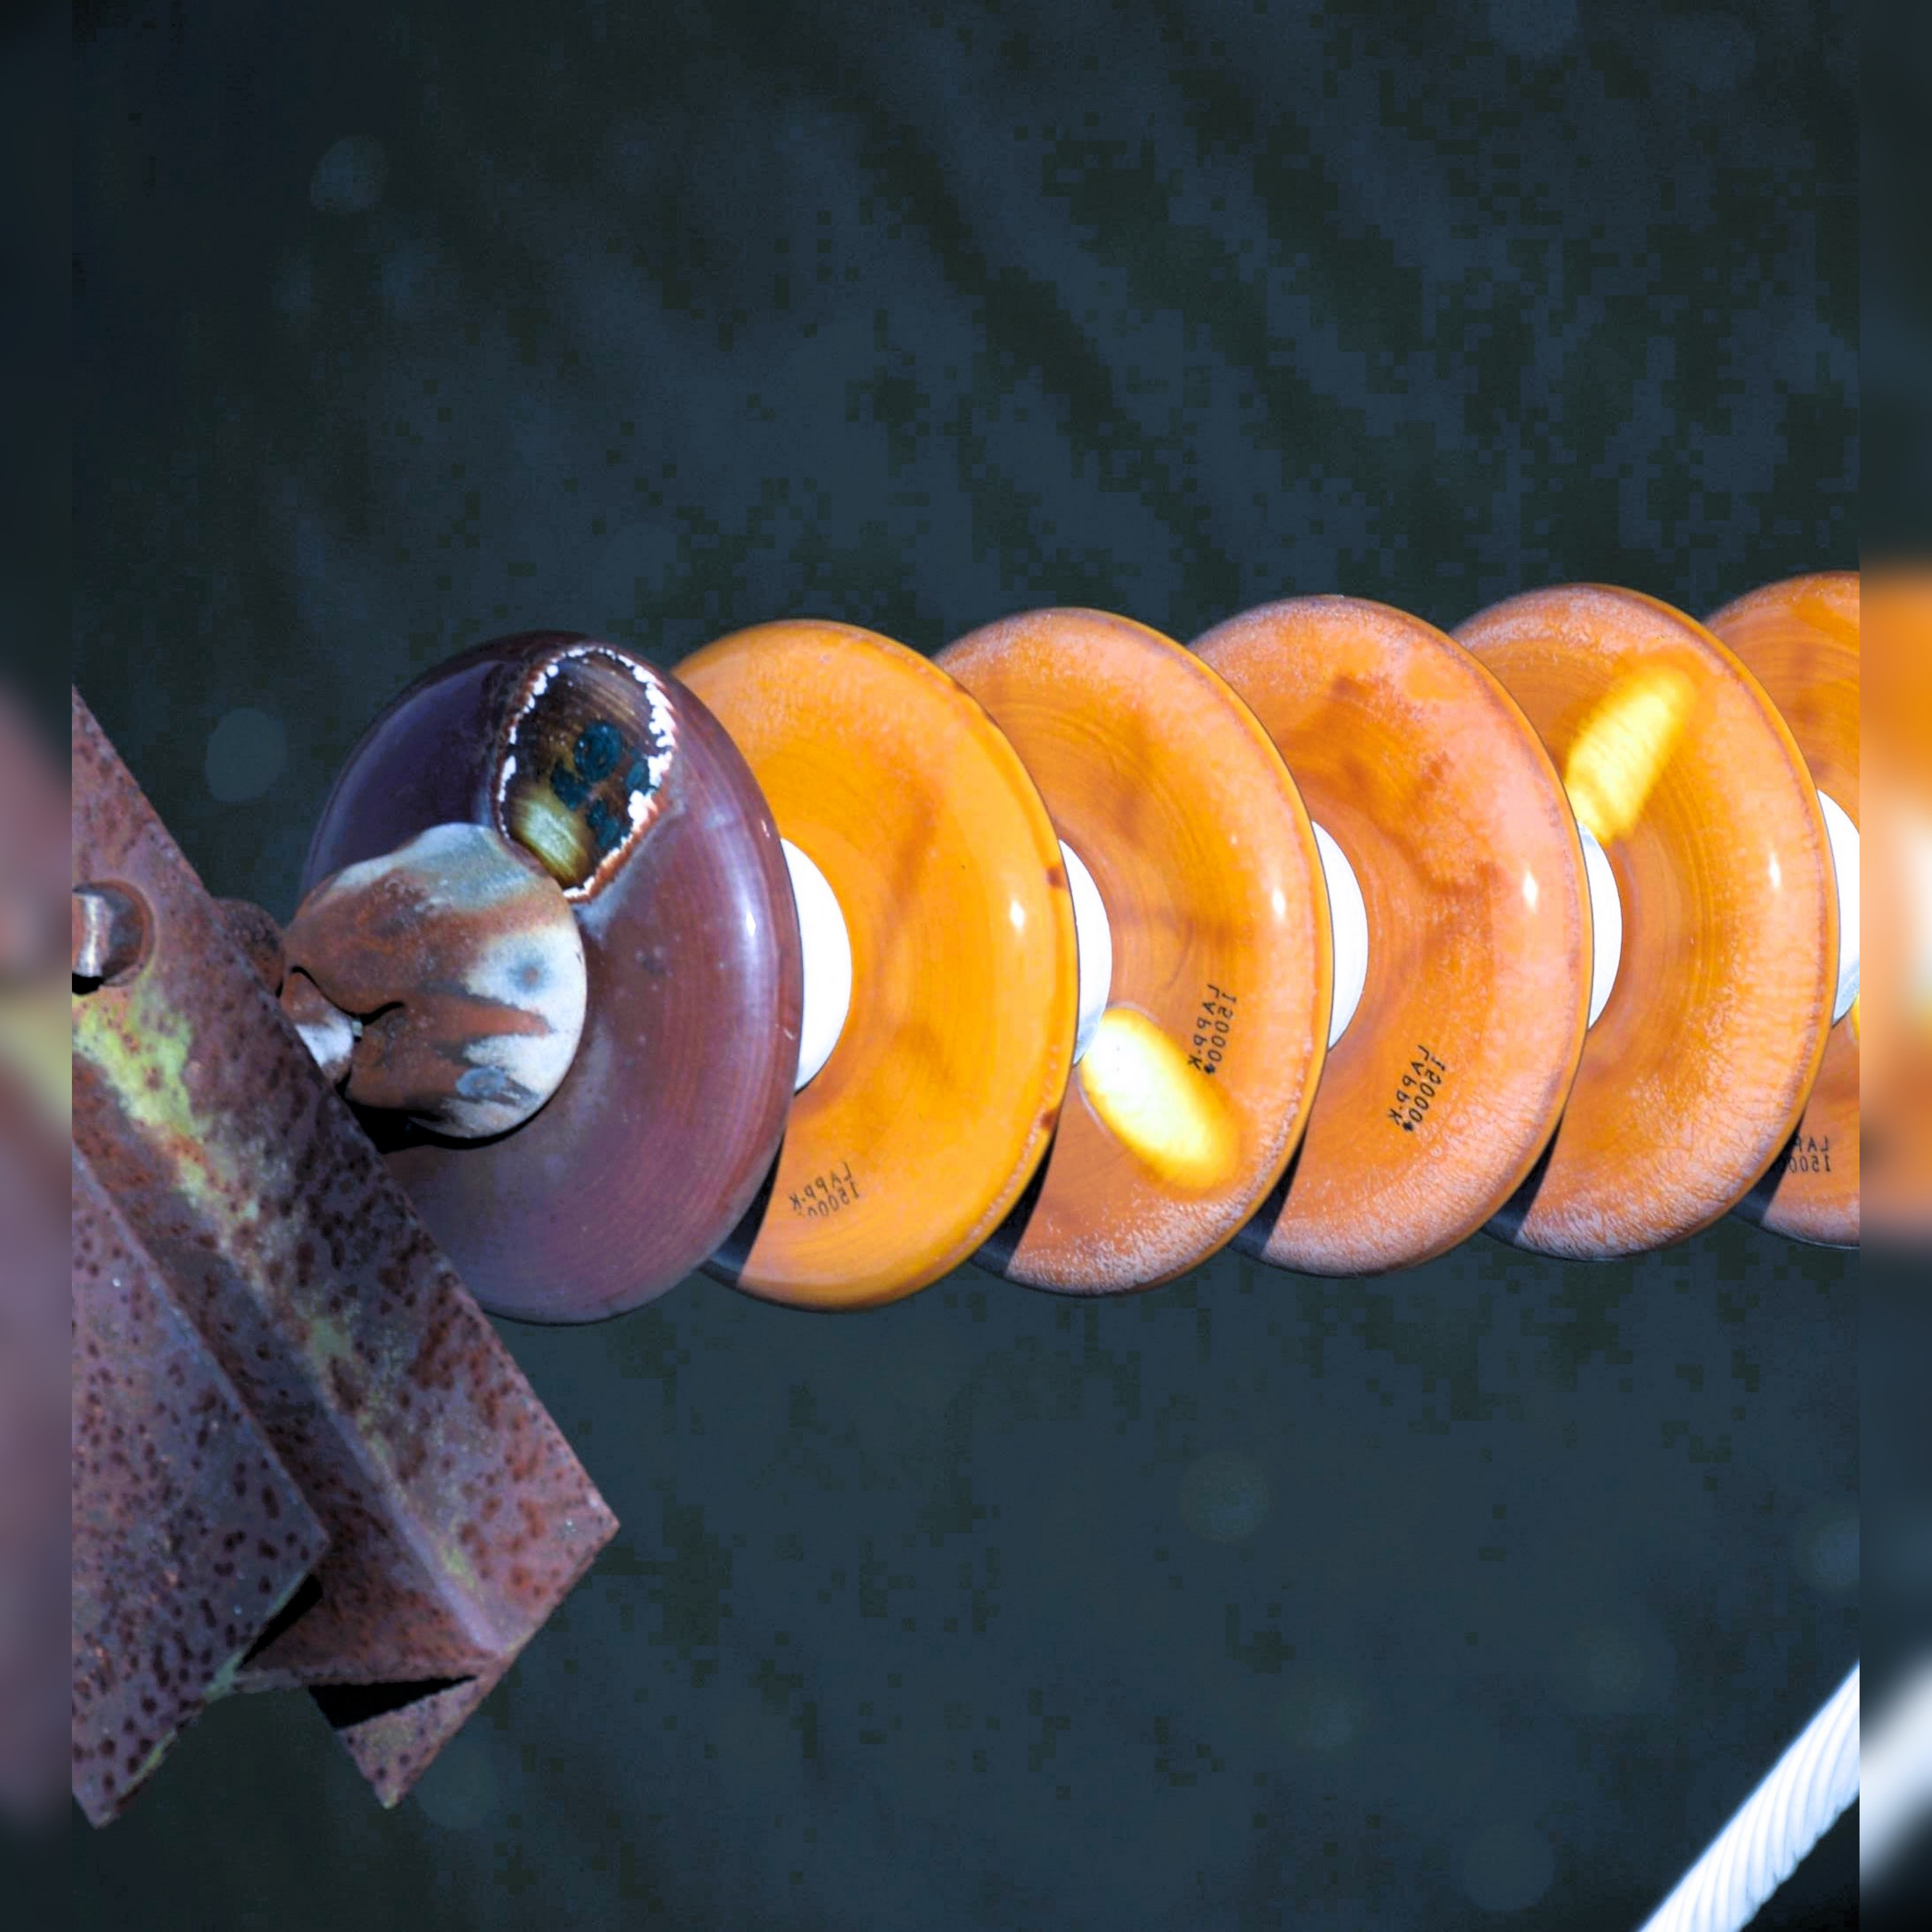Insulator flashover: (297, 610, 819, 1357), (1438, 554, 1854, 1284), (932, 596, 1343, 1315)
